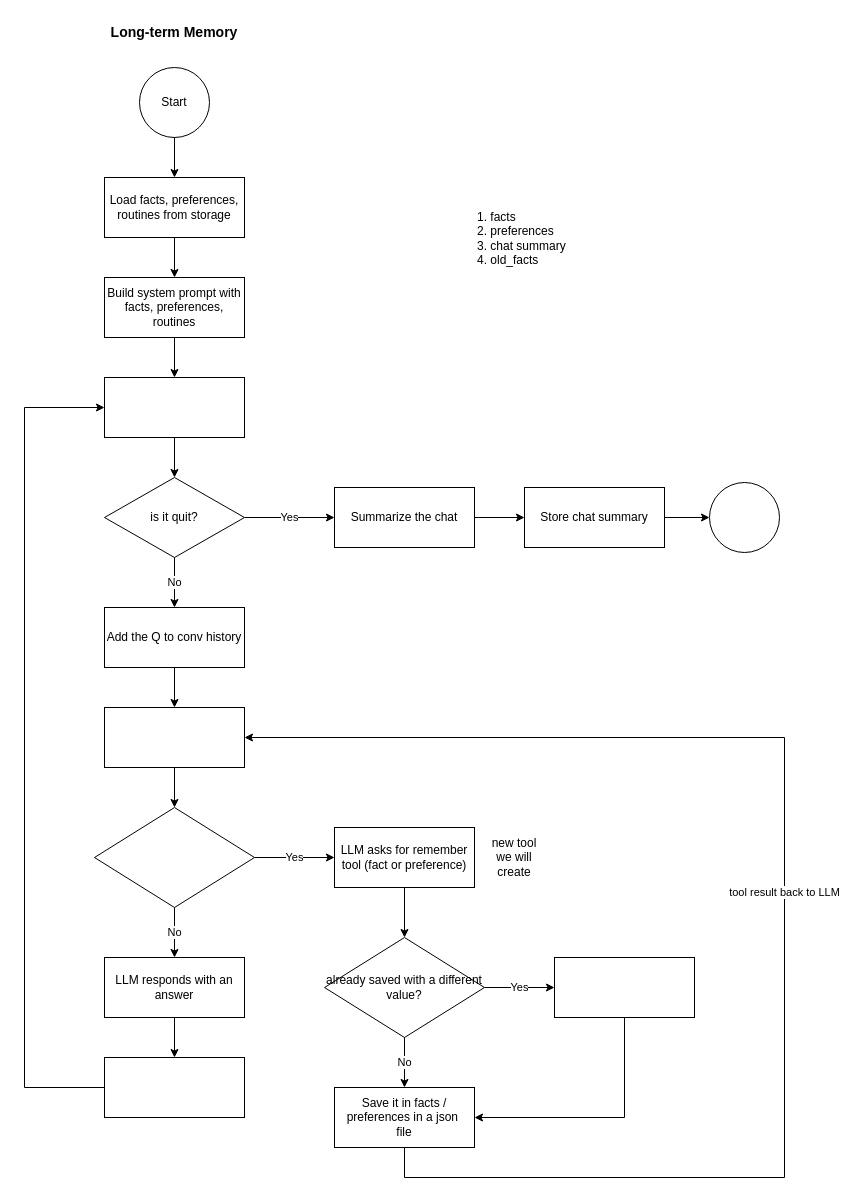
The diagram is 857 pixels wide and 1203 high, and some of its shapes have lost their labels. The shapes that lost their labels are listed below. From the top down, each one's centre as x and y in pixels, then its label:
(174,407): user sends a Q
(744,517): End
(174,737): invoke LLM with conv history
(174,857): did the user share a fact or a preference?
(624,987): Move old value to old_facts facts json file
(174,1087): Add LLM answer to conv history
